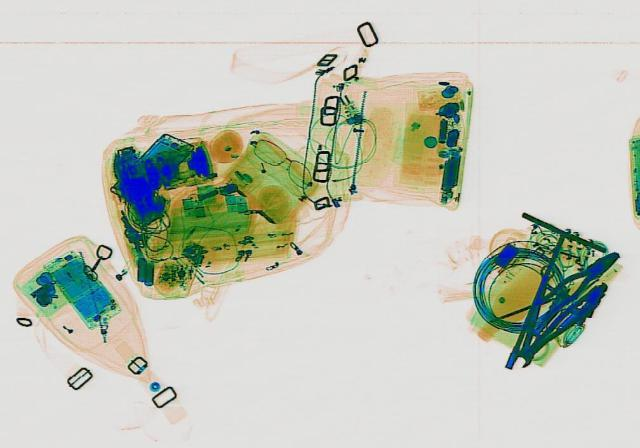Pliers: (524, 245, 626, 319)
Wrench: (504, 264, 558, 363)
